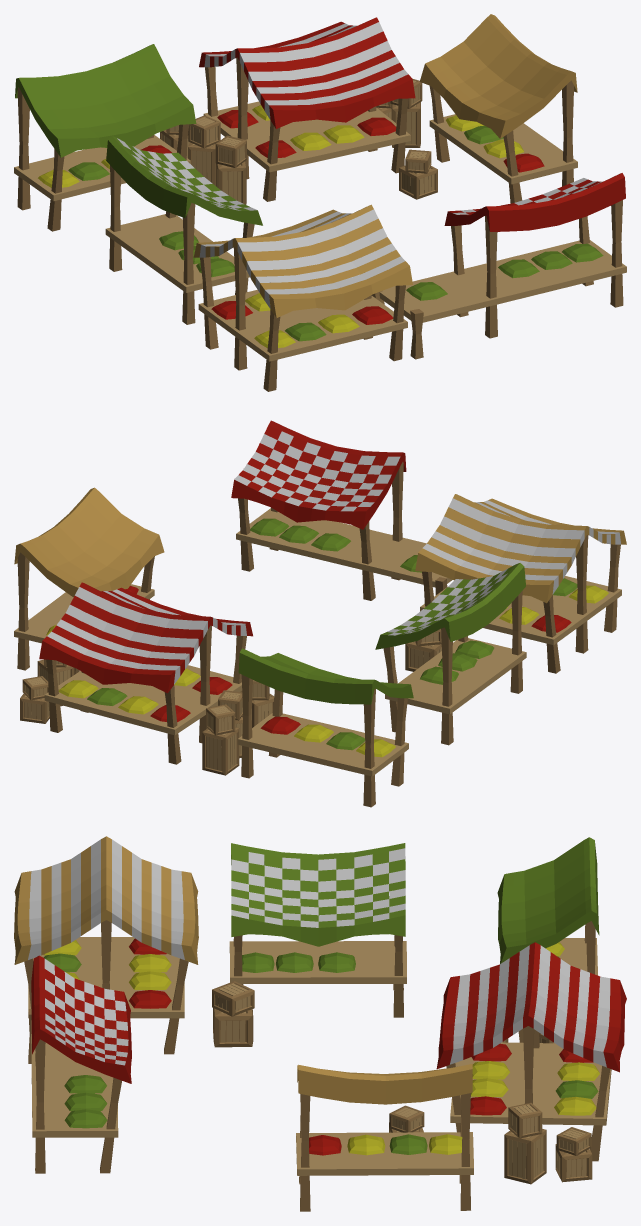
The model's file is Market_FirstAge_Level3.glb.
3 renders of one model, top to bottom at view 1: azimuth 30°, elevation 25°; view 2: azimuth 150°, elevation 25°; view 3: azimuth 270°, elevation 25°, orthographic. The views are drawn at different scales.
Visible parts, largest first — view 1: Market_FirstAge_Level3; view 2: Market_FirstAge_Level3; view 3: Market_FirstAge_Level3.
Boxes of the visible parts, left/top/right/bottom form: Market_FirstAge_Level3: left=14, top=14, right=626, bottom=391; Market_FirstAge_Level3: left=14, top=420, right=626, bottom=807; Market_FirstAge_Level3: left=14, top=836, right=626, bottom=1211.
Bounding box in the file's own units: 1.89 × 0.5526 × 2.11.
